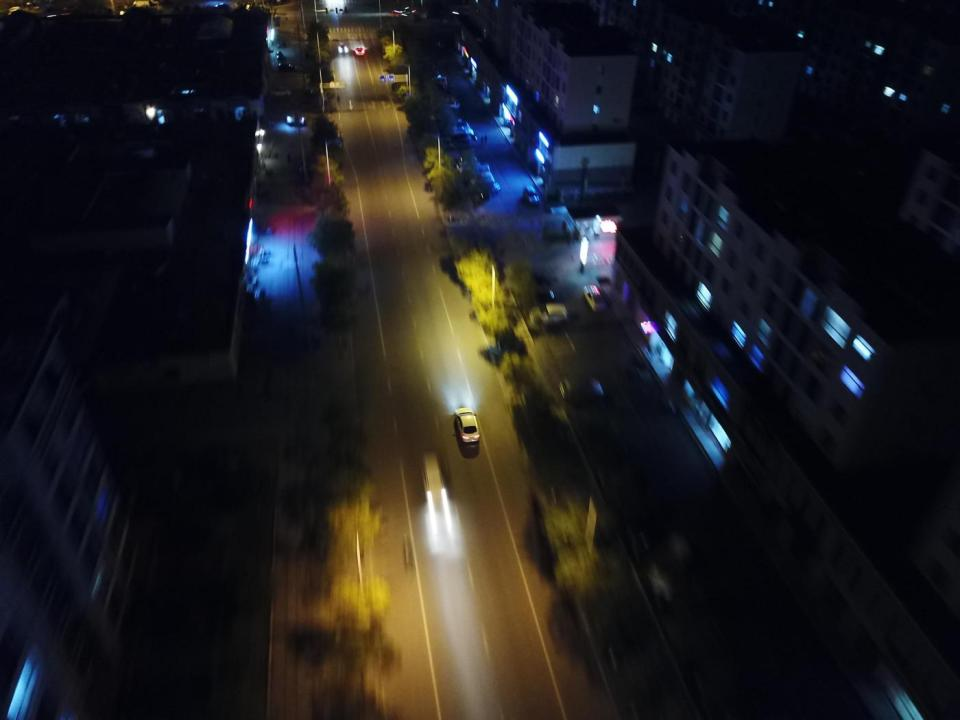car: (653, 534, 690, 604), (558, 375, 603, 405), (454, 404, 478, 444), (520, 286, 555, 306), (583, 285, 605, 311), (452, 159, 476, 172), (447, 136, 473, 147), (435, 98, 458, 110), (320, 136, 344, 147), (472, 173, 492, 185), (448, 127, 473, 136), (469, 163, 489, 174), (271, 87, 291, 96), (446, 121, 468, 129), (279, 62, 296, 72), (435, 89, 454, 97), (404, 6, 417, 14), (338, 43, 347, 54), (355, 45, 364, 56), (390, 9, 403, 16), (438, 39, 445, 47), (276, 51, 282, 58)
van: (422, 452, 454, 556), (531, 304, 566, 328), (522, 185, 539, 204), (426, 74, 446, 86)
